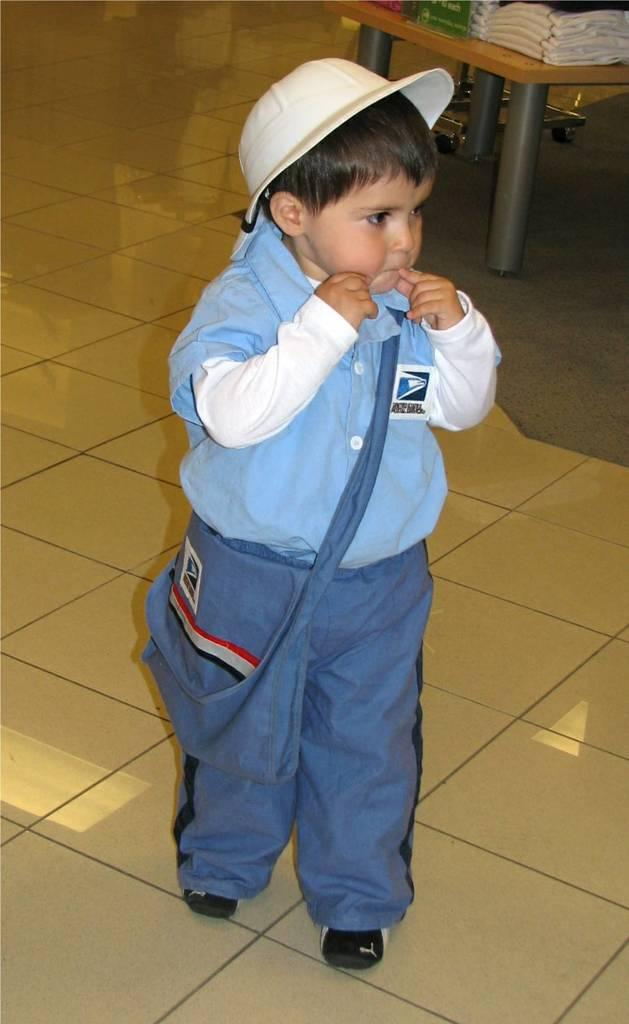Hat: (231, 54, 455, 230)
